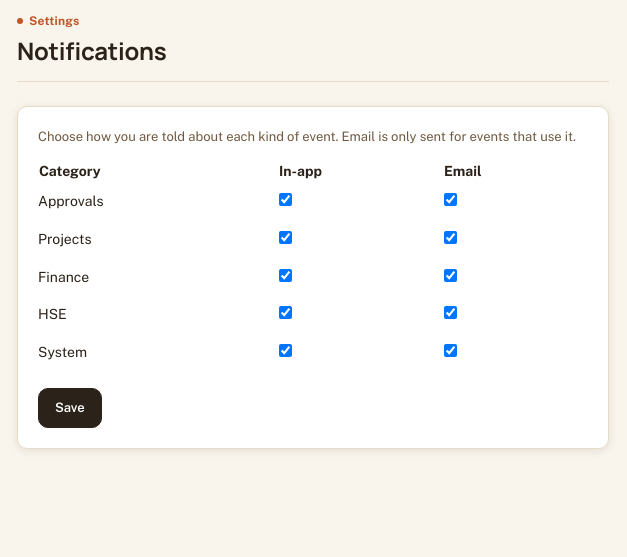
it: NotificationPreferencesPage › shows an error when saving fails
Click the button "Save" at (70,408), box [38,388,102,428]
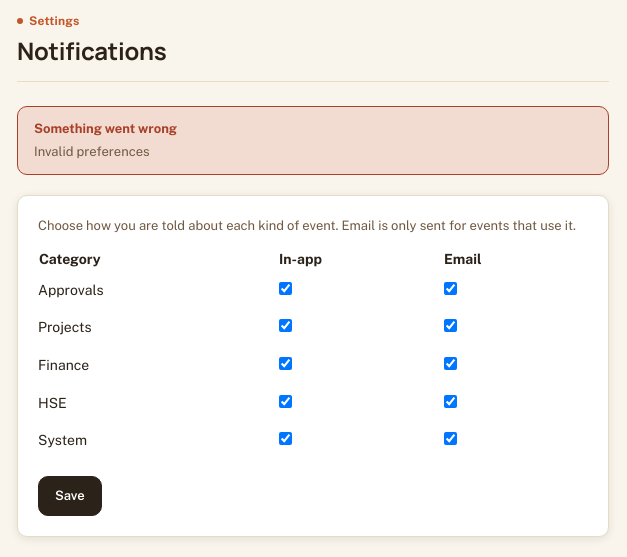
Check: the text "Invalid preferences" is shown, box [34,144,150,158]
